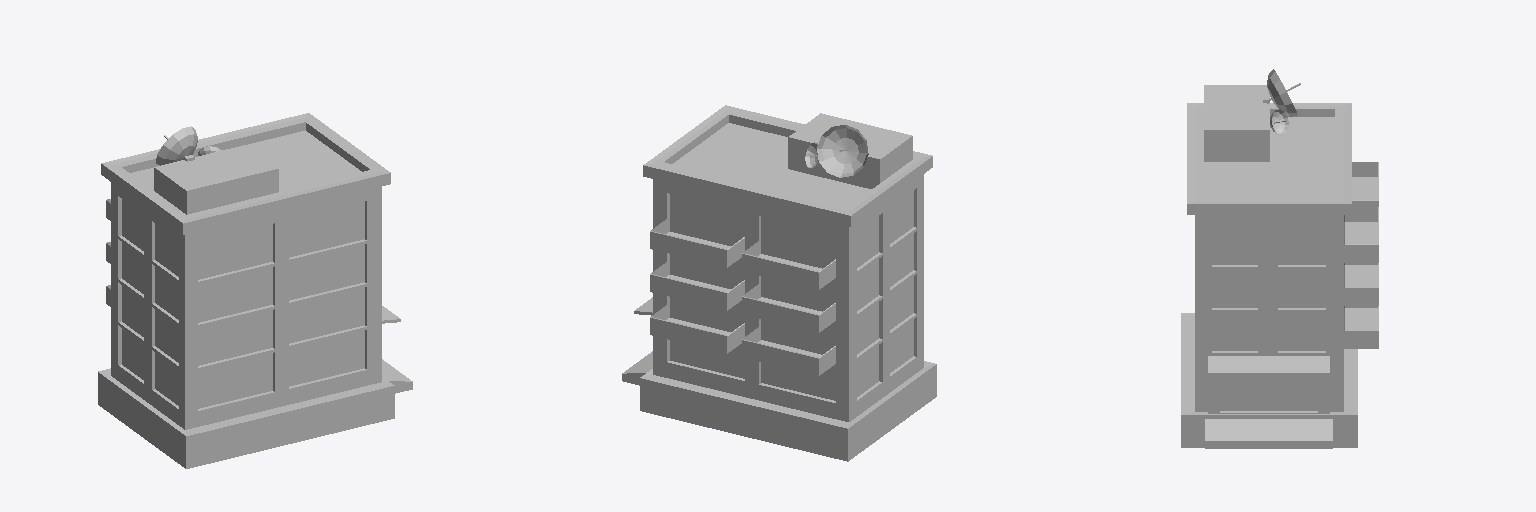
The model's file is build2.obj.
3 views of the same model, side by side, from view 1: azimuth 30°, elevation 25°; view 2: azimuth 150°, elevation 25°; view 3: azimuth 270°, elevation 25° (orthographic).
Visible parts, largest first — view 1: House, Antenne; view 2: House, Antenne; view 3: House, Antenne.
Part boxes in pixels (left/top/right/bottom): House: left=98, top=113, right=412, bottom=468; Antenne: left=156, top=126, right=197, bottom=165; House: left=622, top=105, right=936, bottom=461; Antenne: left=817, top=125, right=868, bottom=177; House: left=1181, top=85, right=1378, bottom=448; Antenne: left=1263, top=69, right=1300, bottom=116.
Size of the model in its own units: 513 by 609 by 369.